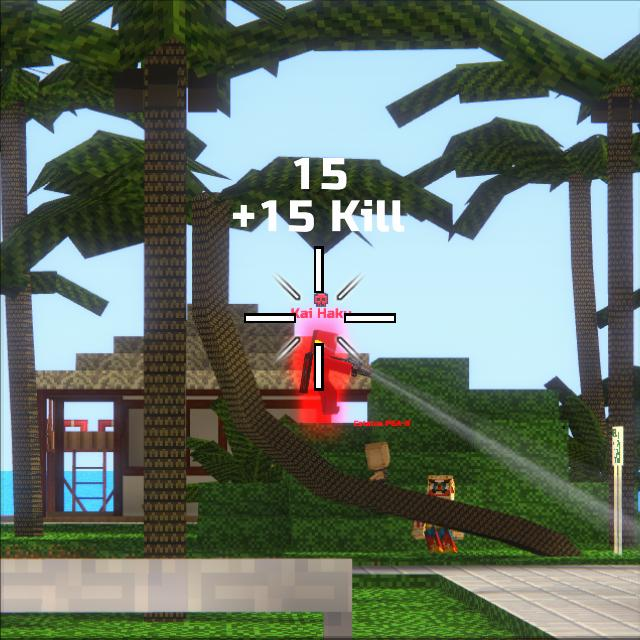Enemy: (303, 328, 350, 420)
